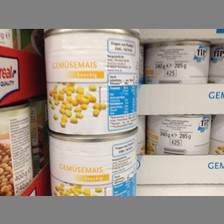corn: (44, 30, 140, 135), (47, 130, 138, 196), (145, 114, 213, 154), (145, 42, 210, 83)
